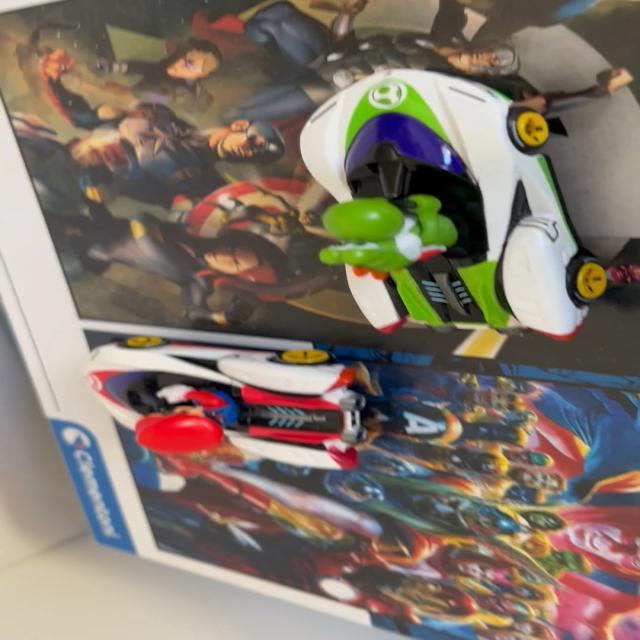mario: (59, 309, 410, 481)
yoshi: (272, 34, 634, 369)
